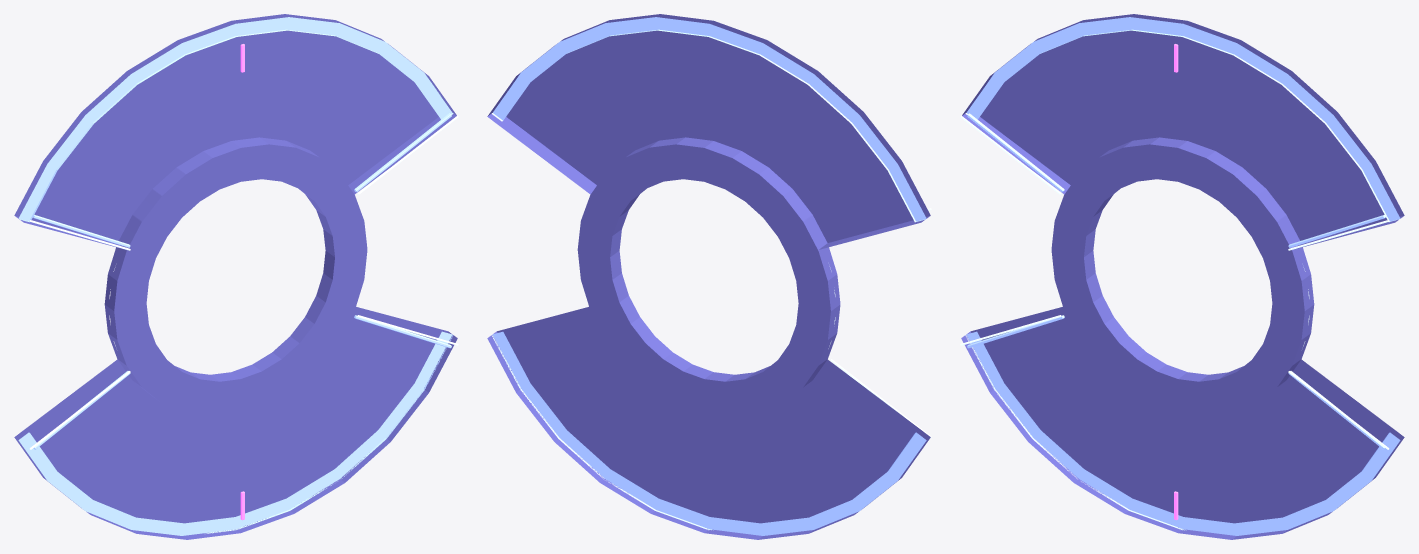
Rendered from prism-panel-fun9-low.glb.
The picture shows the model from 3 angles, left to right: view 1: azimuth 30°, elevation 25°; view 2: azimuth 150°, elevation 25°; view 3: azimuth 330°, elevation 25°; orthographic projection.
Parts seen in each view (by area): view 1: RENDER_PANEL_SHELL, RENDER_PANEL_FRAME, RENDER_PANEL_SIGNAL; view 2: RENDER_PANEL_SHELL, RENDER_PANEL_FRAME; view 3: RENDER_PANEL_SHELL, RENDER_PANEL_FRAME, RENDER_PANEL_SIGNAL.
Boxes of the visible parts, x1,y1,x2,y2 form: RENDER_PANEL_SHELL: (14,14,457,539); RENDER_PANEL_FRAME: (18,17,453,535); RENDER_PANEL_SIGNAL: (29,115,458,449); RENDER_PANEL_SHELL: (487,14,930,539); RENDER_PANEL_FRAME: (491,17,926,535); RENDER_PANEL_SHELL: (961,14,1404,539); RENDER_PANEL_FRAME: (965,17,1400,535); RENDER_PANEL_SIGNAL: (960,115,1389,449).
Size of what is drawn, in the model's own units: 36.85 by 41 by 1.95.
